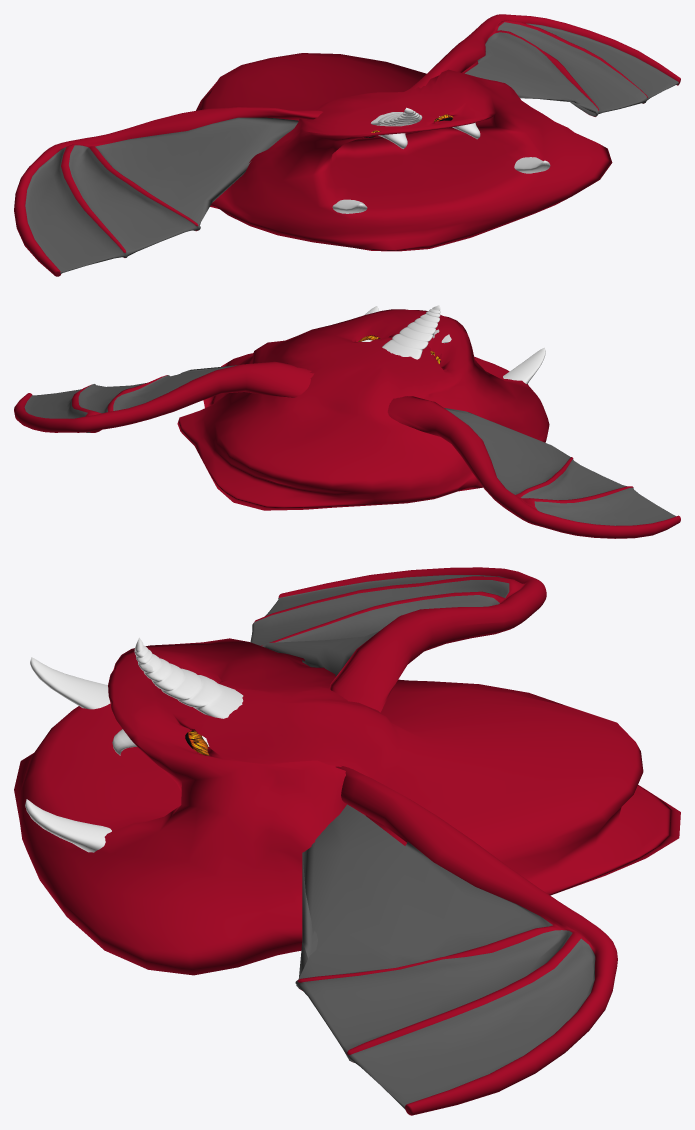
File: boss_hinten4.fbx
The picture shows the model from 3 angles, top to bottom: view 1: azimuth 30°, elevation 25°; view 2: azimuth 150°, elevation 25°; view 3: azimuth 270°, elevation 25°; orthographic projection. The views are drawn at different scales.
Parts seen in each view (by area): view 1: polySurface18; view 2: polySurface18; view 3: polySurface18.
Boxes of the visible parts, x1,y1,x2,y2 form: polySurface18: [14, 14, 680, 276]; polySurface18: [14, 305, 680, 538]; polySurface18: [14, 567, 680, 1115].
Bounding box in the file's own units: 9.49 × 1.74 × 5.17.
4 materials, 1 textured.
